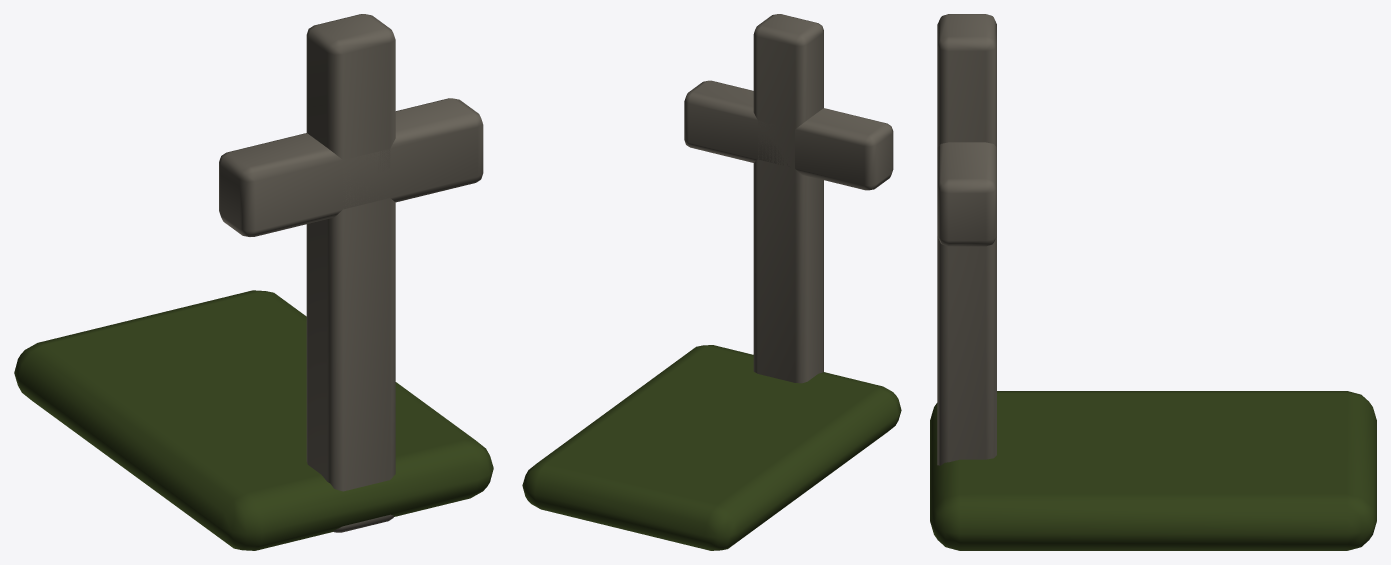
Rendered from gravestone_cross.obj.
3 views of the same model, side by side, from view 1: azimuth 30°, elevation 25°; view 2: azimuth 150°, elevation 25°; view 3: azimuth 270°, elevation 25° (orthographic). The views are drawn at different scales.
Visible parts, largest first — view 1: LH_gravestone_cross; view 2: LH_gravestone_cross; view 3: LH_gravestone_cross.
Boxes of the visible parts, x1,y1,x2,y2 form: LH_gravestone_cross: (14,14,493,550); LH_gravestone_cross: (522,14,901,550); LH_gravestone_cross: (930,14,1376,550).
Size of the model in its own units: 0.4 by 0.7 by 0.6.
